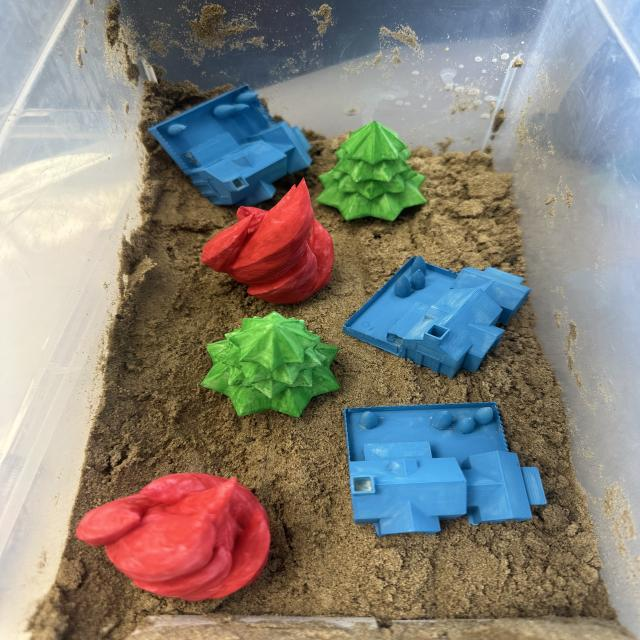fire: (74, 472, 274, 603), (204, 178, 337, 305)
house: (341, 401, 550, 539), (341, 254, 533, 381), (147, 78, 316, 206)
tree: (199, 312, 343, 420), (318, 120, 428, 224)
